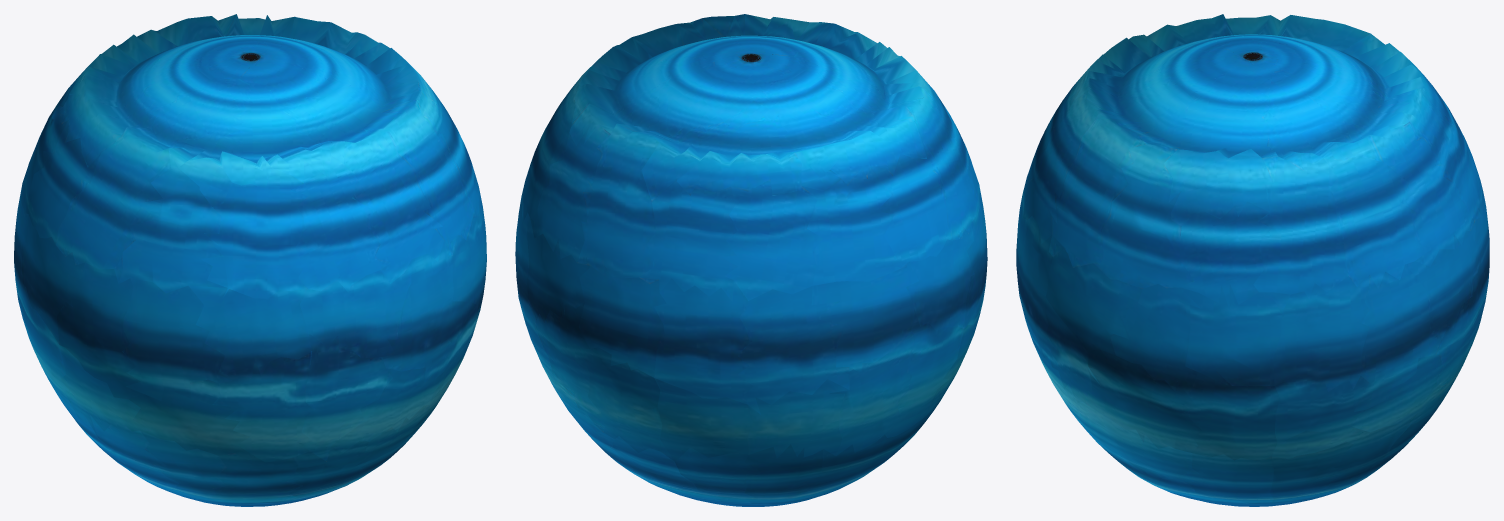
Rendered from solar-neptune.glb.
The picture shows the model from 3 angles, left to right: view 1: azimuth 30°, elevation 25°; view 2: azimuth 150°, elevation 25°; view 3: azimuth 270°, elevation 25°; orthographic projection.
Size of the model in its own units: 1.4 by 1.41 by 1.4.
Materials: 1 (1 with a texture image).
